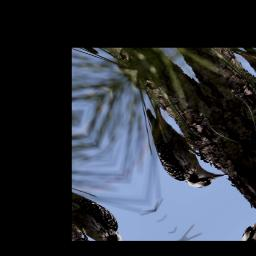Woodpecker: (118, 94, 233, 207)
